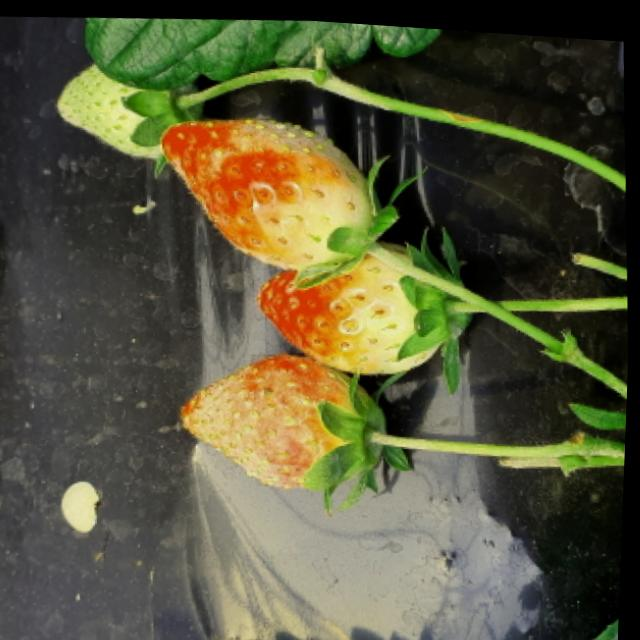Powdery Mildew Fruit: (162, 114, 380, 267), (180, 349, 392, 487)
